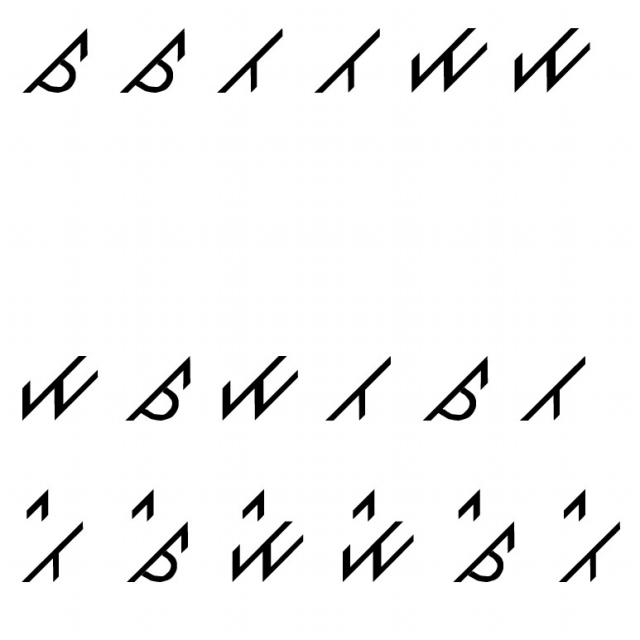ba: (511, 348, 592, 430), (307, 16, 385, 99), (217, 16, 291, 100), (320, 345, 393, 430)
bi: (14, 482, 92, 589), (548, 488, 624, 594)
ca: (18, 16, 93, 101), (418, 350, 493, 428), (119, 19, 191, 100), (126, 352, 199, 428)
ci: (444, 489, 521, 596), (116, 480, 192, 588)
ma: (398, 12, 494, 100), (504, 10, 598, 95), (18, 337, 104, 427), (212, 344, 300, 428)
mi: (221, 482, 310, 587), (334, 488, 422, 588)
